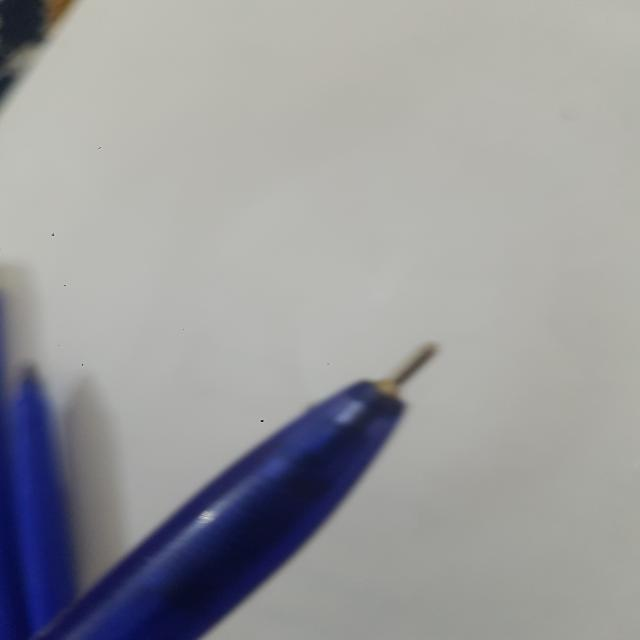general: (29, 340, 440, 638), (1, 362, 77, 639)
